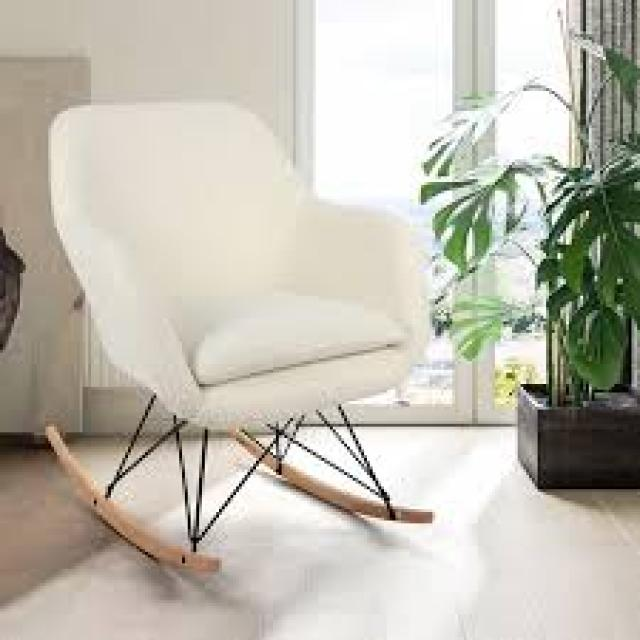chair: (6, 79, 515, 640)
